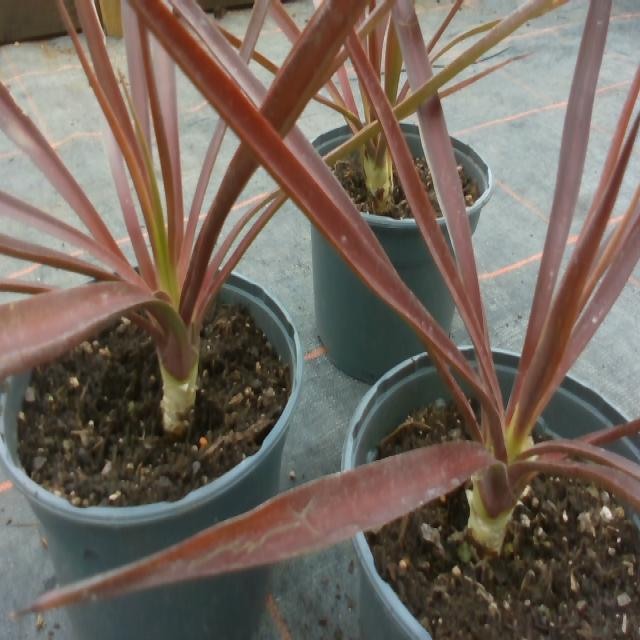Yucca-aloifolia: (134, 0, 465, 373), (18, 441, 495, 613), (348, 36, 487, 361), (516, 147, 629, 436), (523, 0, 611, 359), (0, 85, 123, 259), (393, 0, 568, 120), (75, 0, 156, 245), (0, 281, 171, 377), (261, 0, 367, 139), (418, 89, 480, 305), (185, 143, 258, 311), (561, 220, 639, 372), (171, 0, 266, 107), (0, 191, 124, 269), (281, 124, 363, 229), (508, 456, 639, 512), (153, 39, 183, 249), (209, 192, 281, 273), (2, 233, 114, 279), (224, 191, 287, 272), (517, 440, 639, 480), (102, 115, 141, 239), (121, 0, 149, 141), (190, 124, 225, 220), (392, 0, 432, 80), (323, 120, 381, 165), (238, 0, 268, 63), (428, 0, 463, 51), (579, 419, 639, 444), (385, 23, 402, 104), (270, 0, 300, 43), (315, 96, 356, 123), (251, 51, 278, 75), (325, 80, 346, 107), (218, 27, 242, 48), (347, 109, 354, 117)
